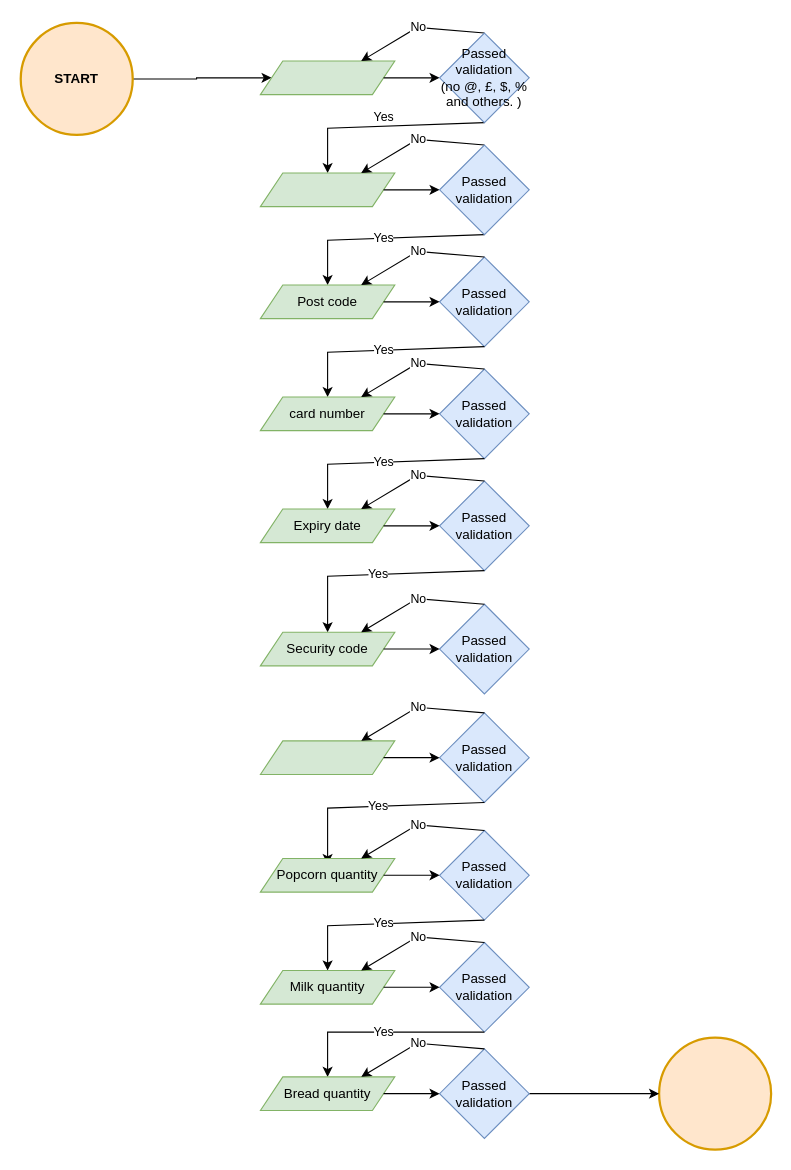
This 791x1170 diagram has some shape labels left out. The box of each missing label's shape, as (x1, y1, x2, y2) in pixels:
Address: (259, 172, 395, 207)
Beans quantity: (259, 740, 395, 774)
END: (657, 1036, 772, 1150)
Name: (259, 60, 395, 95)
